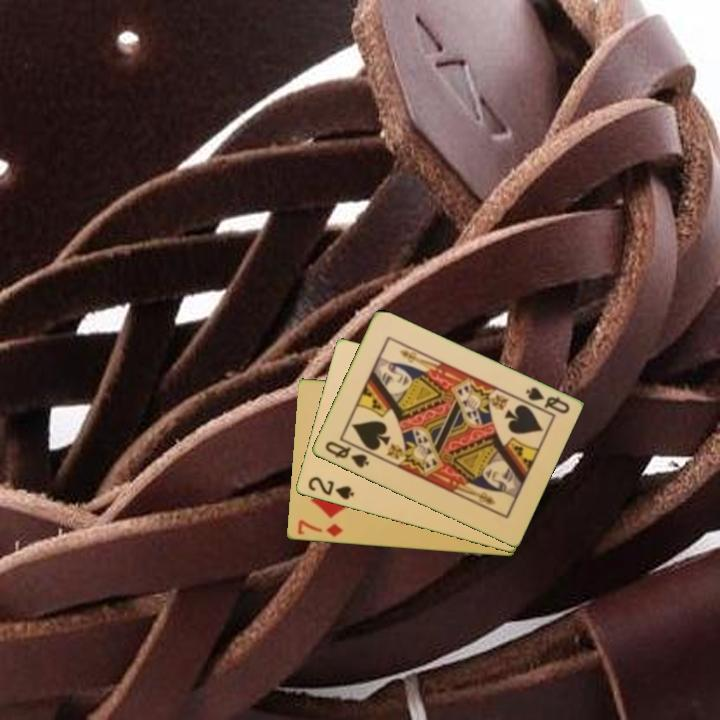2s: (304, 473, 357, 503)
7d: (294, 517, 345, 540)
Qs: (321, 438, 372, 471), (522, 384, 572, 417)
